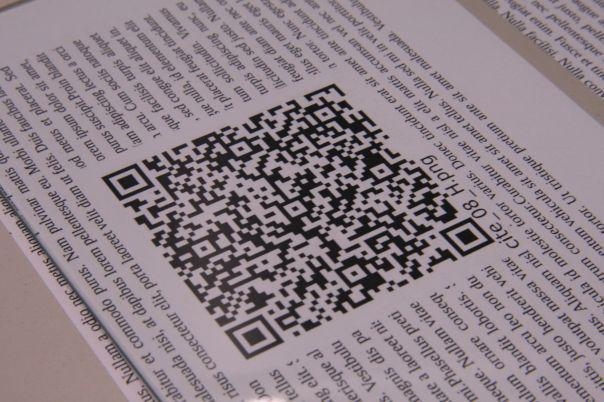qr_code: (101, 83, 494, 361)
